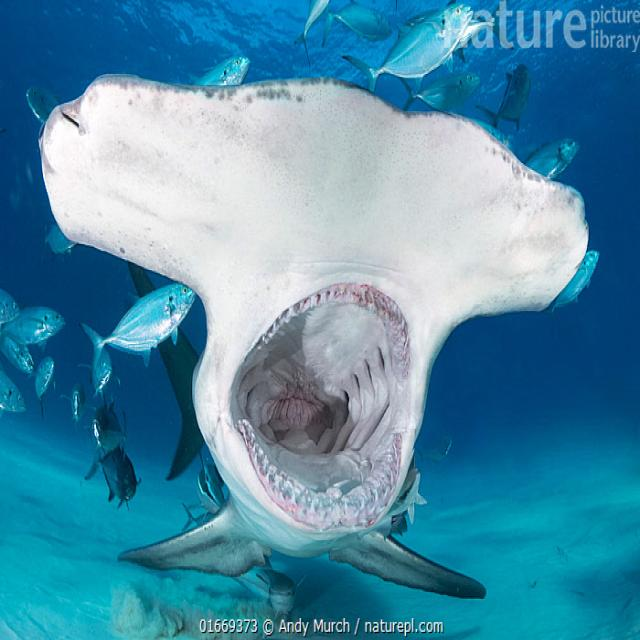dangerous_animal: (41, 74, 589, 601), (249, 564, 298, 618)
fish: (78, 283, 192, 391), (352, 3, 475, 82), (78, 427, 138, 508), (321, 0, 395, 54), (550, 250, 598, 314), (2, 305, 64, 348), (293, 1, 327, 68), (525, 139, 580, 176), (82, 346, 110, 406), (191, 55, 252, 81), (0, 370, 26, 419)
